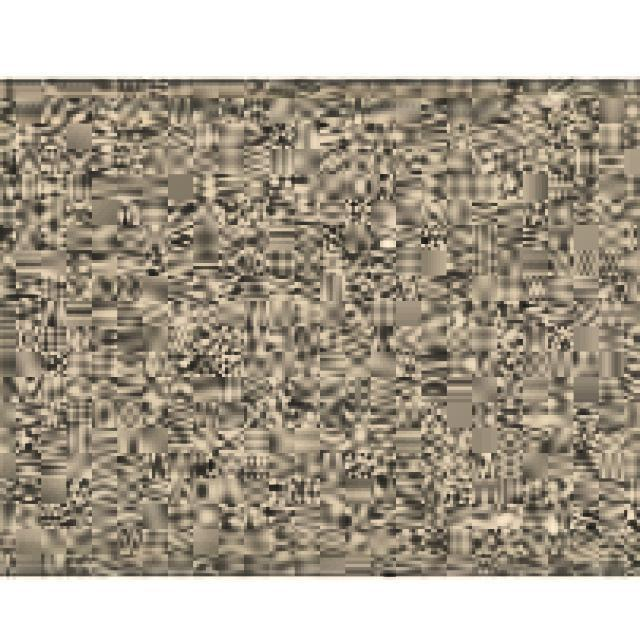cardboard: (0, 76, 640, 577)
